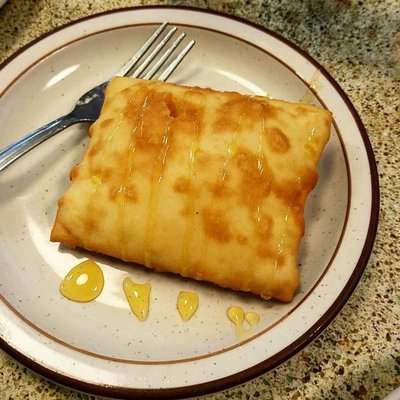burger: (0, 21, 198, 173)
